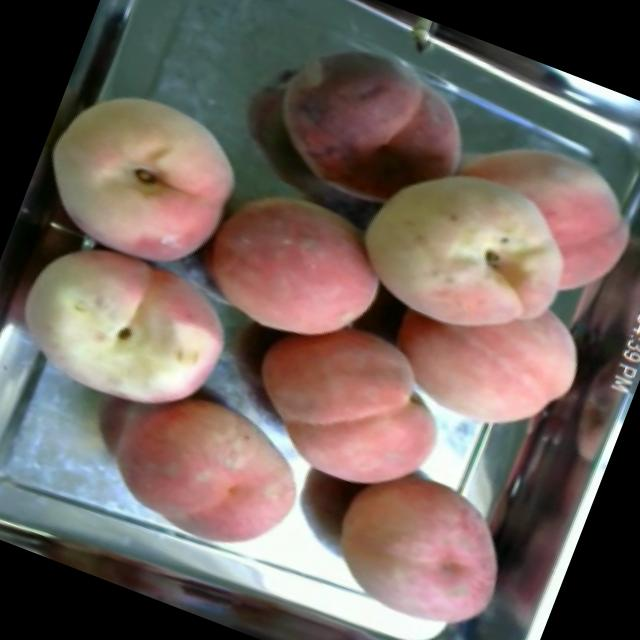Fruit: (331, 130, 604, 374), (231, 0, 501, 246), (216, 284, 478, 522), (73, 354, 334, 582), (20, 56, 274, 289), (0, 222, 256, 446), (170, 152, 415, 378), (364, 247, 610, 467), (303, 442, 540, 640)
